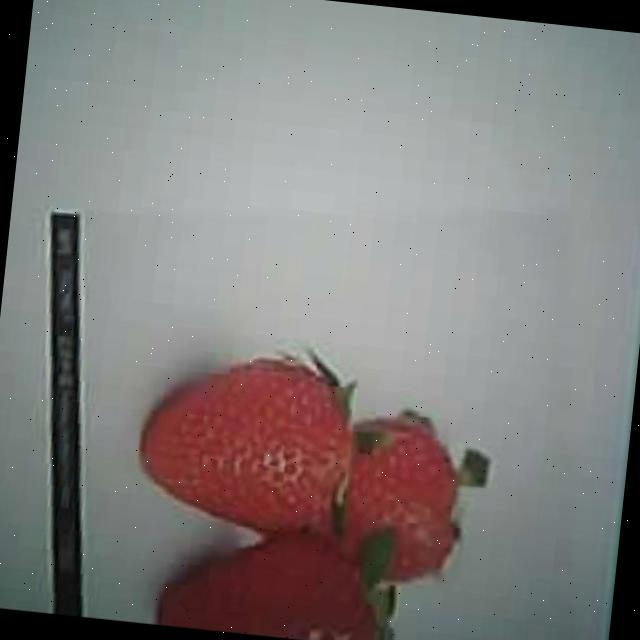strawberry: (134, 347, 355, 545)
